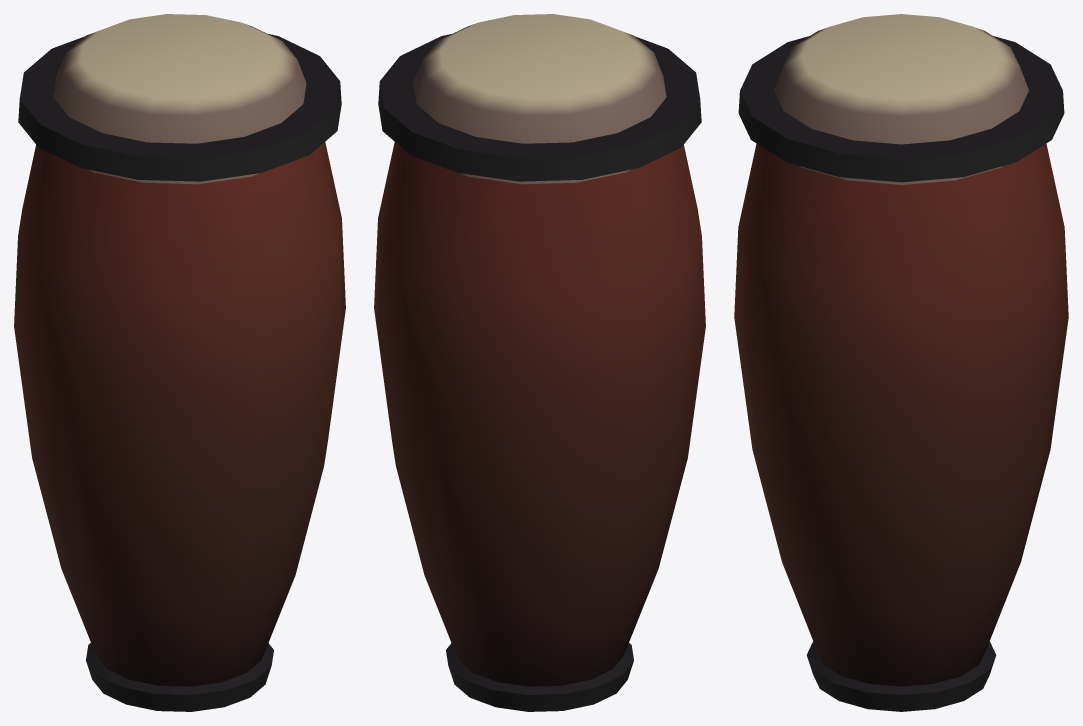
The model's file is human-music-conga-drum_v1.fbx.
3 views of the same model, side by side, from view 1: azimuth 30°, elevation 25°; view 2: azimuth 150°, elevation 25°; view 3: azimuth 270°, elevation 25° (orthographic).
Visible parts, largest first — view 1: Conga Drum; view 2: Conga Drum; view 3: Conga Drum.
Boxes of the visible parts, x1,y1,x2,y2 form: Conga Drum: [14, 14, 345, 711]; Conga Drum: [374, 14, 705, 711]; Conga Drum: [734, 14, 1068, 711].
Size of the model in its own units: 0.3677 by 0.75 by 0.3677.
